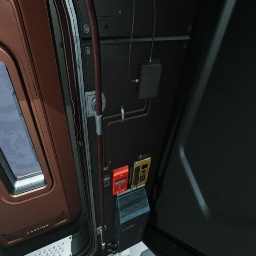EmergencyPhone ,: (129, 151, 151, 191)
FireAlarm ,: (112, 165, 129, 195)
